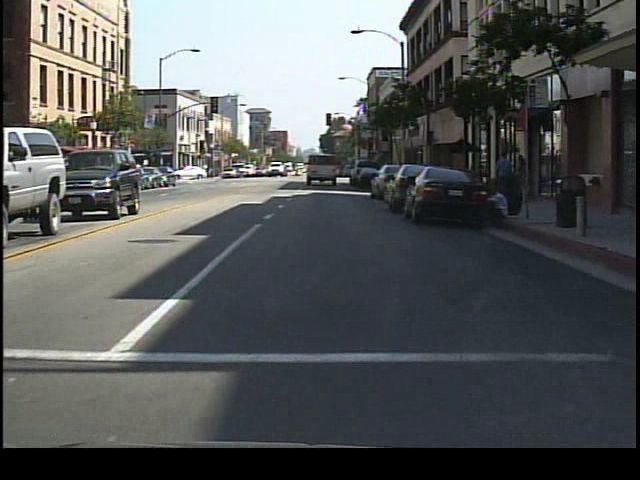person: (491, 144, 517, 209), (509, 151, 533, 206)
